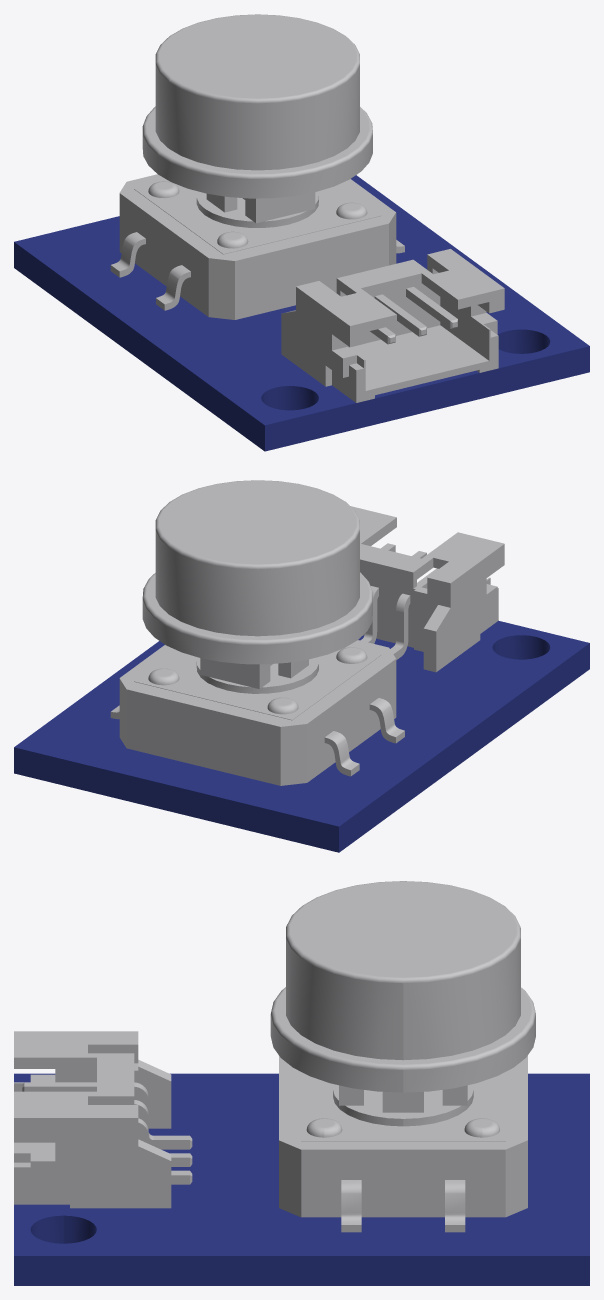
Rendered from ada-4431.glb.
The picture shows the model from 3 angles, top to bottom: view 1: azimuth 30°, elevation 25°; view 2: azimuth 150°, elevation 25°; view 3: azimuth 270°, elevation 25°; orthographic projection. The views are drawn at different scales.
Visible parts, largest first — view 1: 0.5833333333333334_0.5833333333333334_0.5833333333333334_0.8, 0_0.08333333333333333_0.25_0; view 2: 0.5833333333333334_0.5833333333333334_0.5833333333333334_0.8, 0_0.08333333333333333_0.25_0; view 3: 0.5833333333333334_0.5833333333333334_0.5833333333333334_0.8, 0_0.08333333333333333_0.25_0.
Boxes of the visible parts, x1,y1,x2,y2 form: 0.5833333333333334_0.5833333333333334_0.5833333333333334_0.8: (110, 14, 504, 402); 0_0.08333333333333333_0.25_0: (14, 175, 589, 451); 0.5833333333333334_0.5833333333333334_0.5833333333333334_0.8: (110, 480, 504, 785); 0_0.08333333333333333_0.25_0: (14, 620, 589, 852); 0.5833333333333334_0.5833333333333334_0.5833333333333334_0.8: (14, 881, 535, 1232); 0_0.08333333333333333_0.25_0: (14, 1073, 589, 1285).
Bounding box in the file's own units: 2.08 × 1.41 × 2.78.
